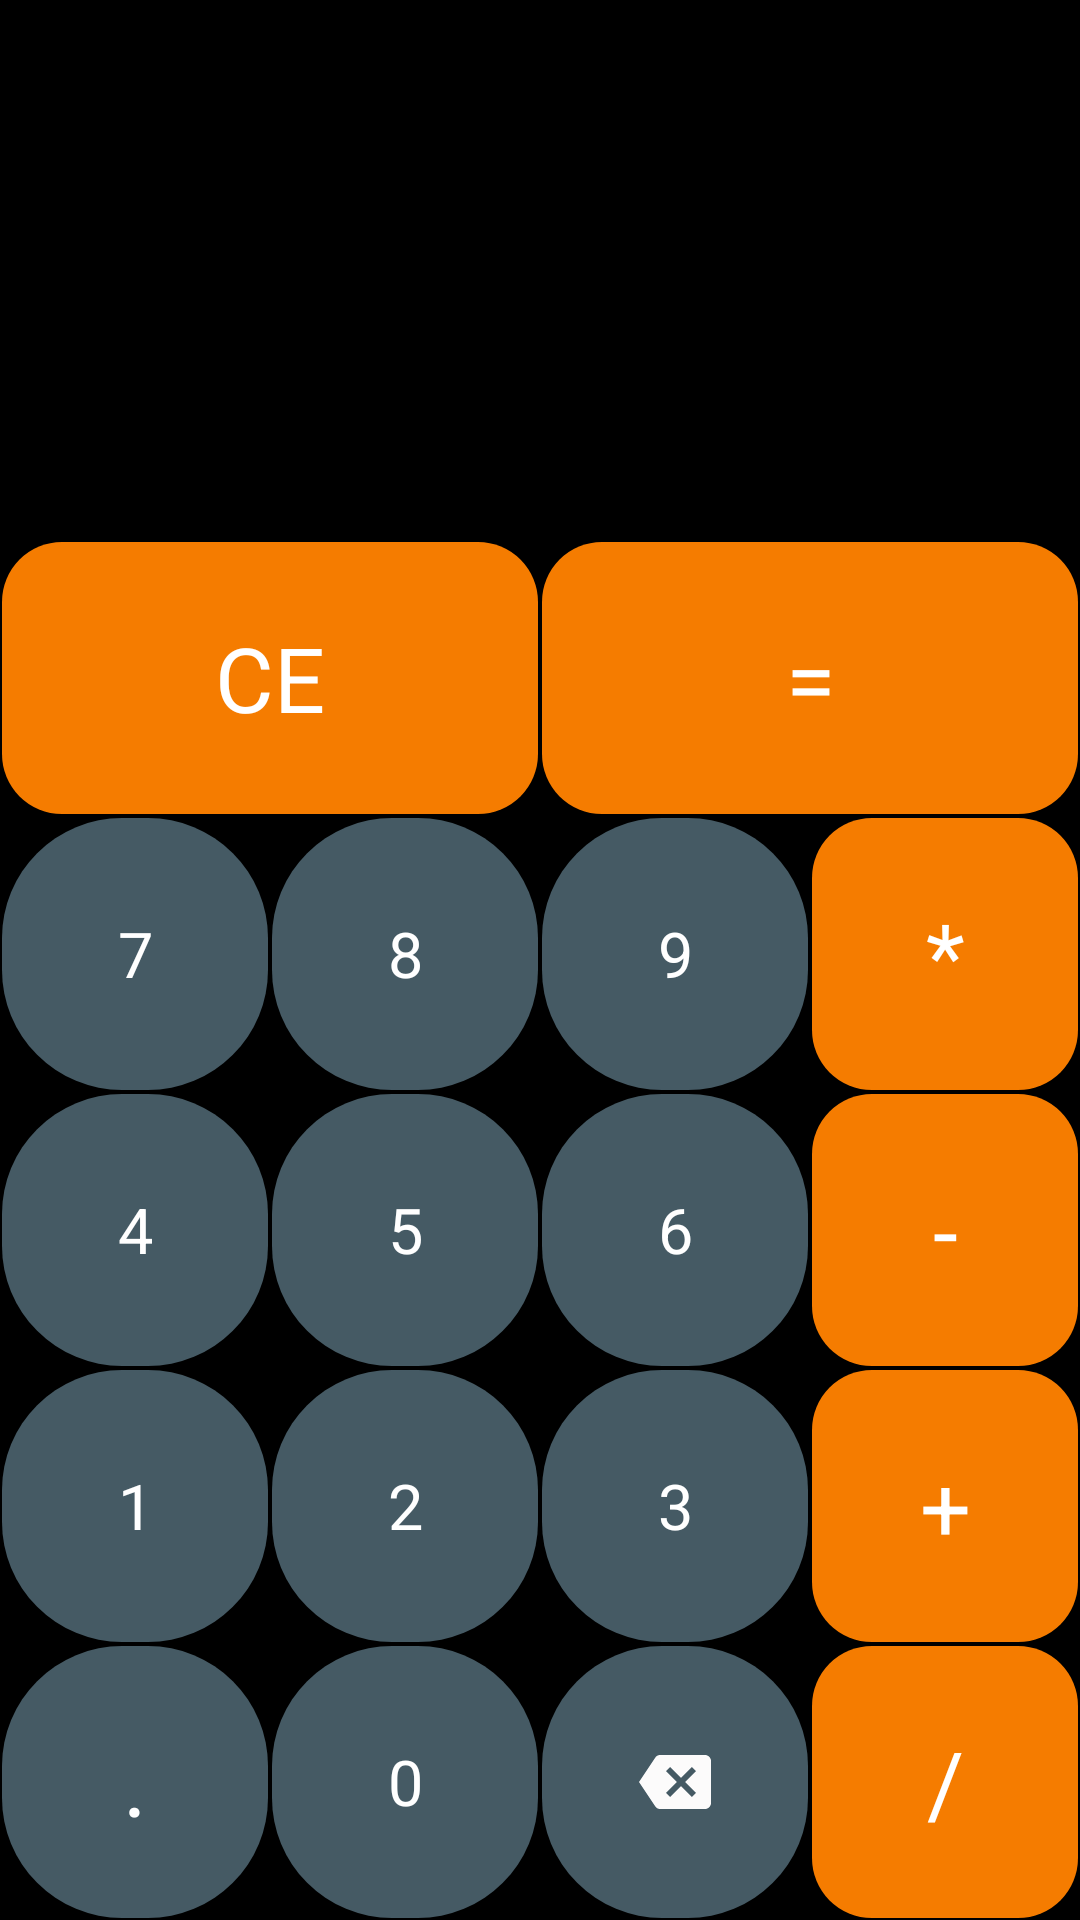

Named icons in this screenshot (1080×1920) and their bounding boxes, (x1, y1, x2, y2):
backspace: (542, 1646, 808, 1918)
